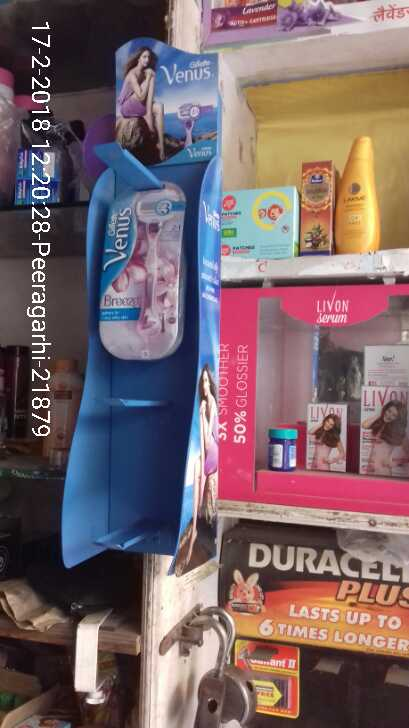beauty: (95, 183, 194, 364)
pharmacy: (266, 425, 300, 470)
